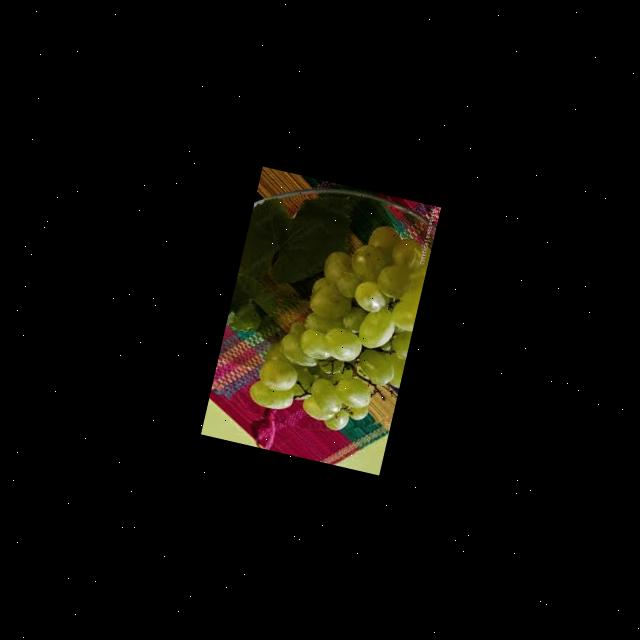grape: (244, 203, 433, 442)
